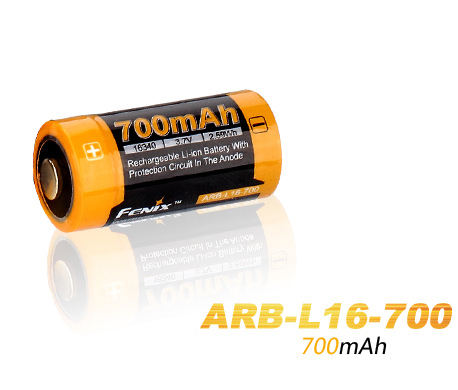Battery: (31, 88, 284, 234)
